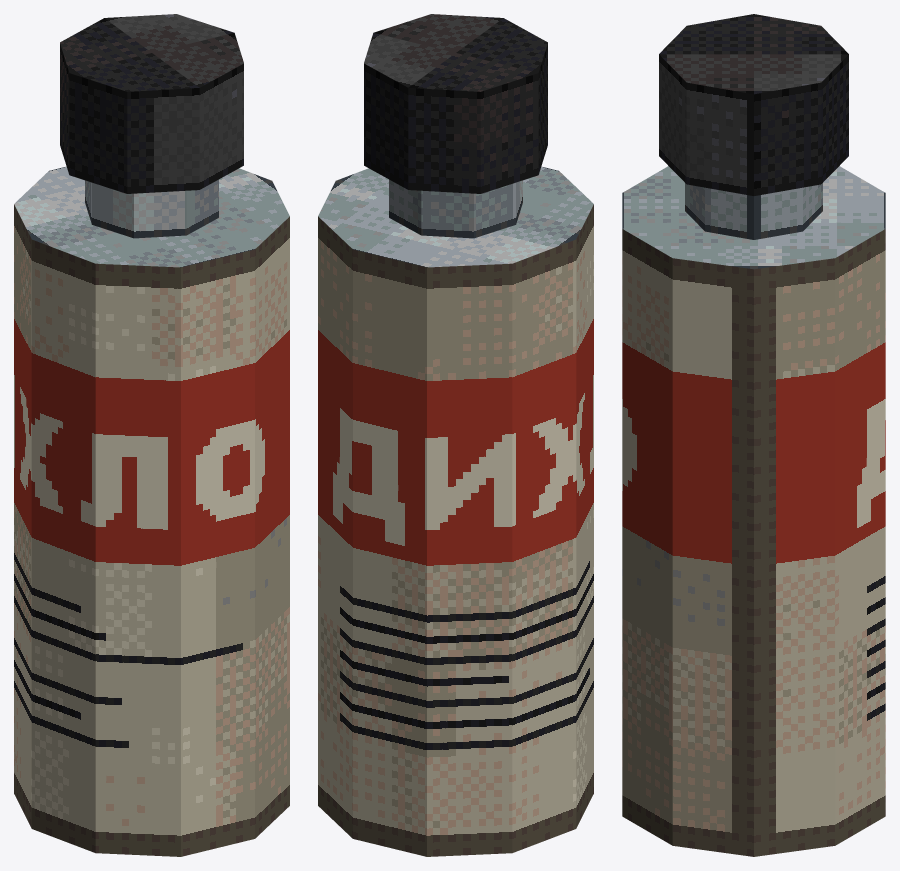
The model's file is SM_BugSpray_01.glb.
3 views of the same model, side by side, from view 1: azimuth 30°, elevation 25°; view 2: azimuth 150°, elevation 25°; view 3: azimuth 270°, elevation 25° (orthographic).
Parts seen in each view (by area): view 1: SM_BugSpray_01; view 2: SM_BugSpray_01; view 3: SM_BugSpray_01.
Boxes of the visible parts, x1,y1,x2,y2 form: SM_BugSpray_01: [14, 14, 289, 856]; SM_BugSpray_01: [318, 14, 593, 856]; SM_BugSpray_01: [622, 14, 885, 856].
Bounding box in the file's own units: 0.064 × 0.19 × 0.0609.
1 material, 1 textured.
